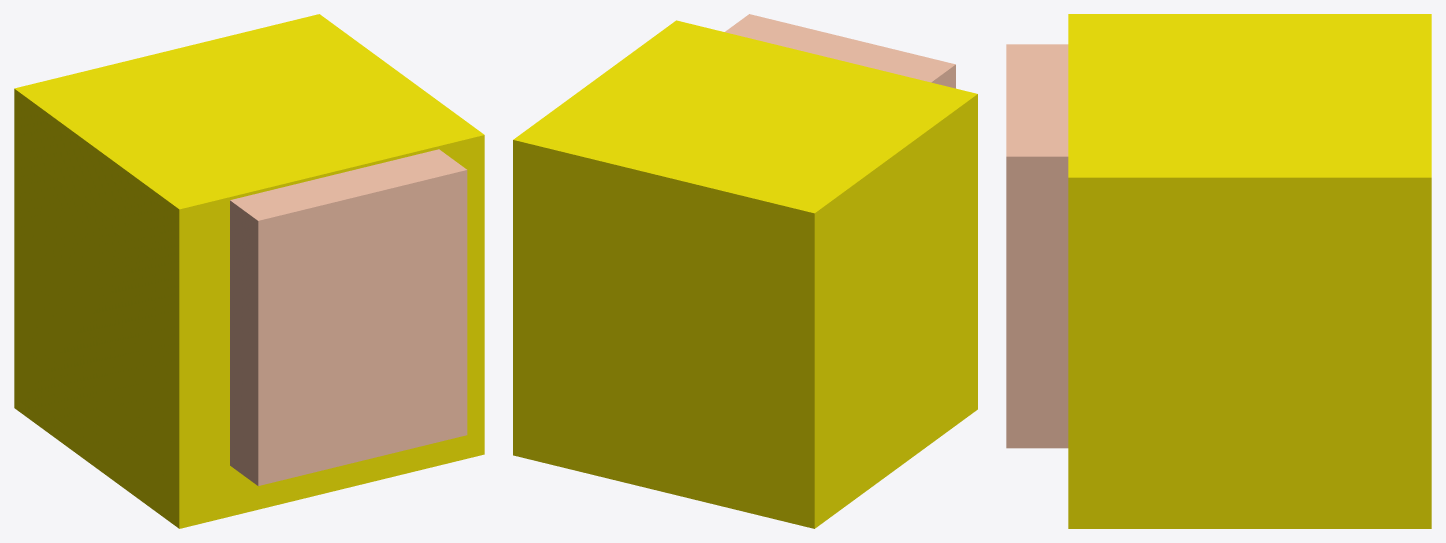
File: yellow_body.obj
3 views of the same model, side by side, from view 1: azimuth 30°, elevation 25°; view 2: azimuth 150°, elevation 25°; view 3: azimuth 270°, elevation 25° (orthographic). The views are drawn at different scales.
Visible parts, largest first — view 1: polySurface31; view 2: polySurface31; view 3: polySurface31.
Boxes of the visible parts, box(x1,y1,x2,y2) form: polySurface31: box(14, 14, 484, 528); polySurface31: box(513, 14, 977, 528); polySurface31: box(1006, 14, 1431, 528).
Bounding box in the file's own units: 1.6 × 1.6 × 1.76.
1 material, 1 textured.
